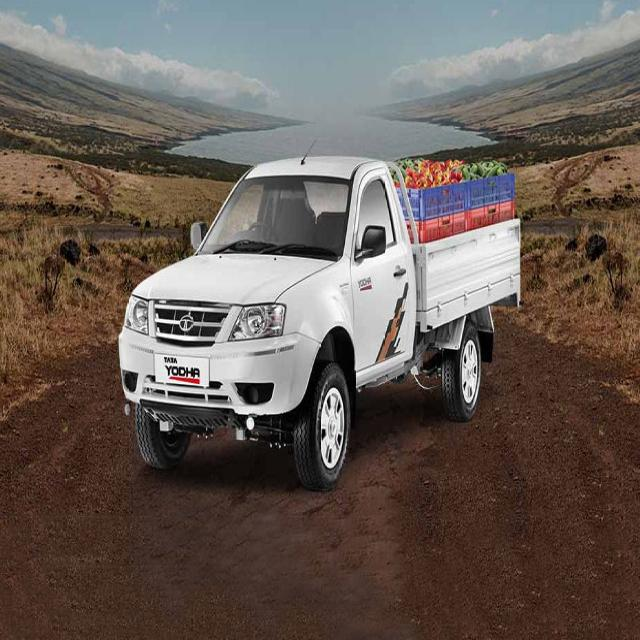light_vehicle: (114, 135, 524, 470)
